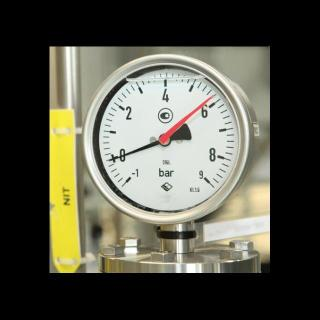gauge: (78, 46, 264, 226), (117, 166, 141, 190), (196, 168, 216, 188), (157, 132, 171, 146), (206, 91, 216, 101), (105, 157, 114, 163)
